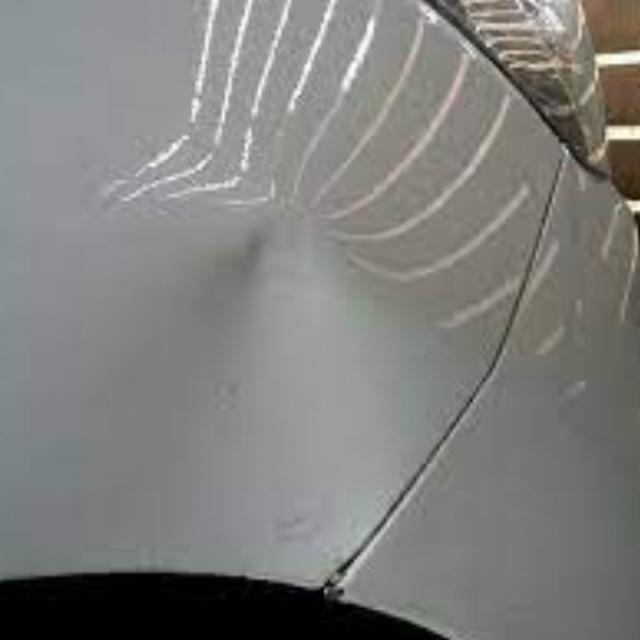dents: (135, 212, 419, 534)
